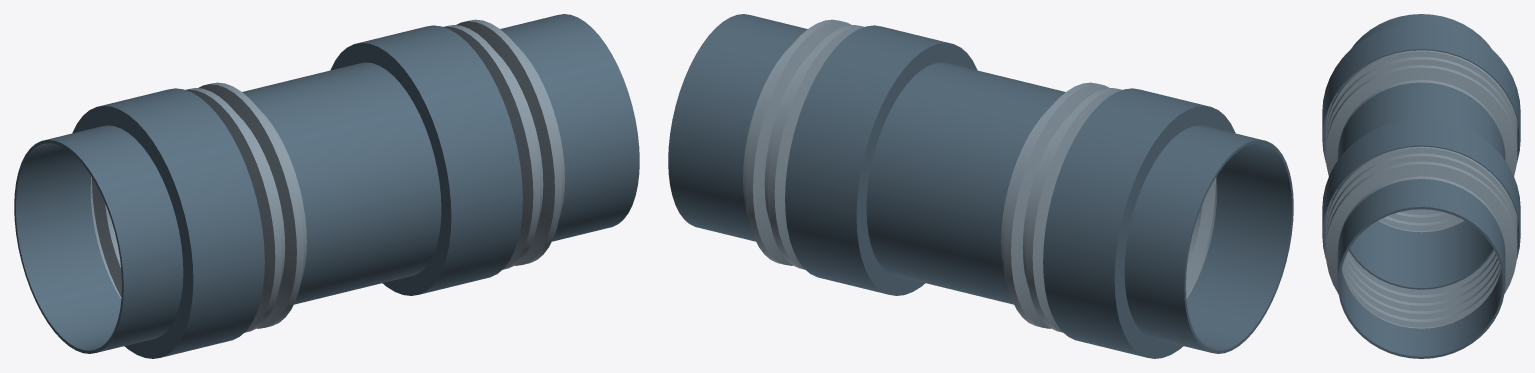
Rendered from 2silf-dn500-L1442-D530-k-o686.glb.
3 renders of one model, left to right at view 1: azimuth 30°, elevation 25°; view 2: azimuth 150°, elevation 25°; view 3: azimuth 270°, elevation 25°, orthographic. The views are drawn at different scales.
Parts seen in each view (by area): view 1: patrubok_1, osnovanie_kozhuh_1, osnovanie_kozhuh_2, patrubok_2, patrubok_4, patrubok_3, prokladka_silfon_1, prokladka_silfon_2; view 2: patrubok_1, osnovanie_kozhuh_1, osnovanie_kozhuh_2, patrubok_2, patrubok_4, patrubok_3, prokladka_silfon_1, prokladka_silfon_2; view 3: prokladka_silfon_2, patrubok_4, prokladka_silfon_1, patrubok_2, osnovanie_kozhuh_1, osnovanie_kozhuh_2, patrubok_3, patrubok_1.
Part boxes in pixels (x1,y1,x2,y2): patrubok_1: (14, 125, 183, 353); osnovanie_kozhuh_1: (72, 88, 264, 358); osnovanie_kozhuh_2: (330, 25, 522, 295); patrubok_2: (242, 77, 381, 304); patrubok_4: (500, 14, 639, 241); patrubok_3: (302, 62, 441, 289); prokladka_silfon_1: (90, 82, 306, 332); prokladka_silfon_2: (443, 19, 564, 269); patrubok_1: (1124, 125, 1293, 353); osnovanie_kozhuh_1: (1043, 88, 1235, 358); osnovanie_kozhuh_2: (785, 25, 977, 295); patrubok_2: (926, 77, 1065, 304); patrubok_4: (668, 14, 807, 241); patrubok_3: (866, 62, 1005, 289); prokladka_silfon_1: (1001, 82, 1217, 332); prokladka_silfon_2: (743, 19, 864, 269); prokladka_silfon_2: (1325, 146, 1517, 328); patrubok_4: (1337, 179, 1505, 358); prokladka_silfon_1: (1325, 50, 1517, 232); patrubok_2: (1337, 82, 1505, 260); osnovanie_kozhuh_1: (1322, 22, 1520, 163); osnovanie_kozhuh_2: (1322, 119, 1520, 259); patrubok_3: (1348, 110, 1494, 289); patrubok_1: (1351, 14, 1491, 48).
Bounding box in the file's own units: 1442 × 627 × 627.
